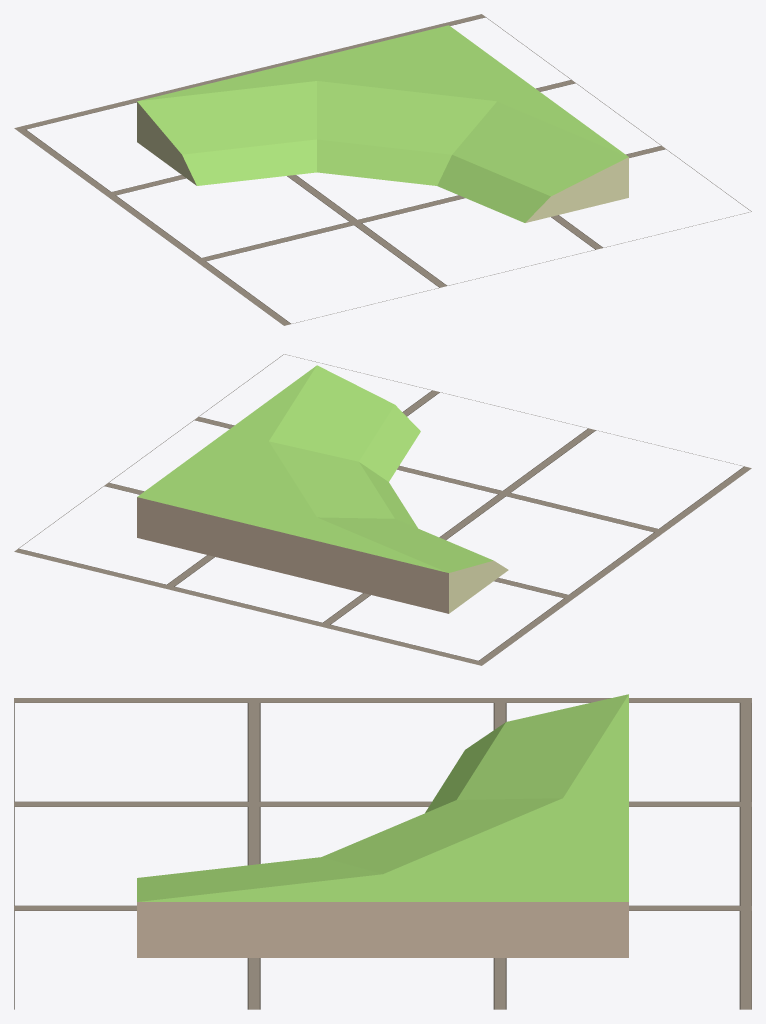
Rendered from Grass_Carpet_Curve_Inner_2x2.glb.
The picture shows the model from 3 angles, top to bottom: view 1: azimuth 30°, elevation 25°; view 2: azimuth 150°, elevation 25°; view 3: azimuth 270°, elevation 25°; orthographic projection. The views are drawn at different scales.
Visible parts, largest first — view 1: Grass_Carpet_Curve_Inner_2x2, Floor; view 2: Grass_Carpet_Curve_Inner_2x2, Floor; view 3: Grass_Carpet_Curve_Inner_2x2, Floor.
Part boxes in pixels (bbox=[...]): Grass_Carpet_Curve_Inner_2x2: bbox=[137, 25, 628, 222]; Floor: bbox=[14, 14, 751, 325]; Grass_Carpet_Curve_Inner_2x2: bbox=[137, 365, 508, 613]; Floor: bbox=[14, 354, 751, 665]; Grass_Carpet_Curve_Inner_2x2: bbox=[137, 694, 628, 957]; Floor: bbox=[14, 698, 751, 1009].
Bounding box in the file's own units: 300 × 25 × 300.
5 materials, 1 textured.
